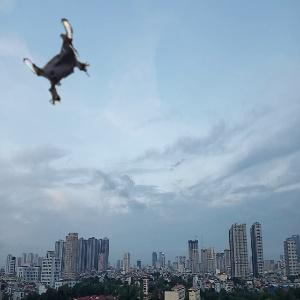drone: (22, 25, 99, 102)
